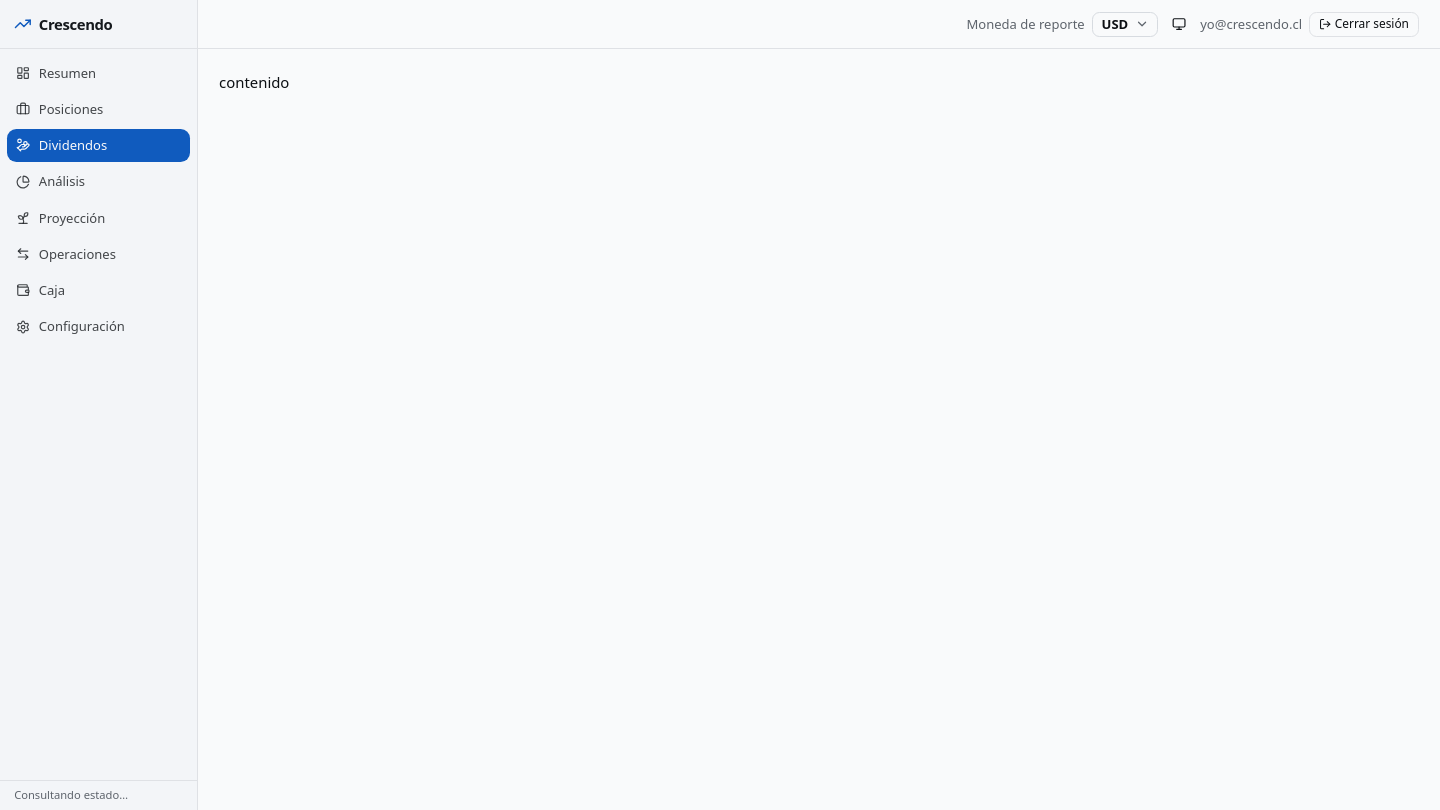
Test case: Layout › muestra un error si no se pudo cerrar sesión
Click the button "Cerrar sesión" at (1364,24), box [1309,12,1419,37]
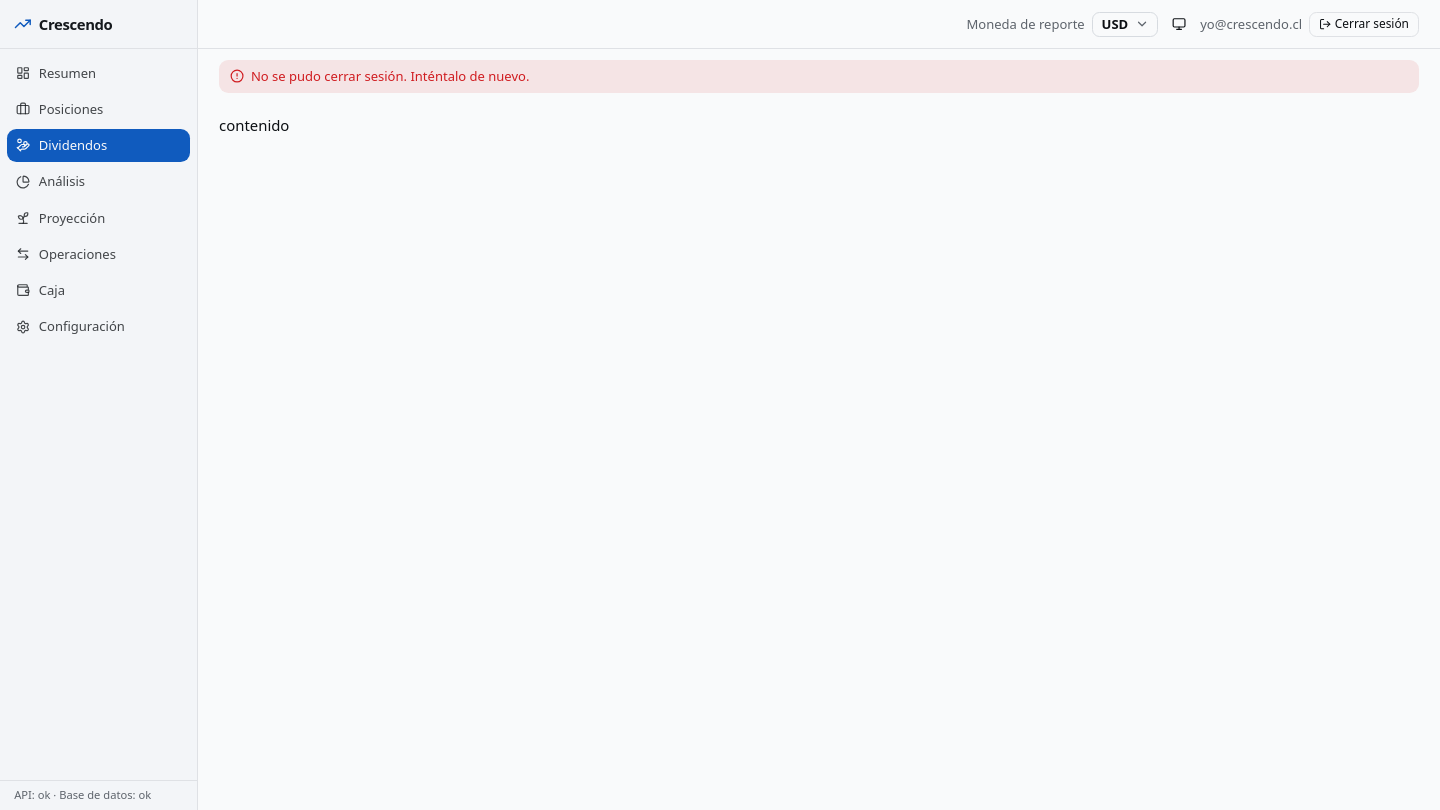
Check: the message reads "No se pudo cerrar sesión. Inténtalo de nuevo.", box [251,67,529,85]
